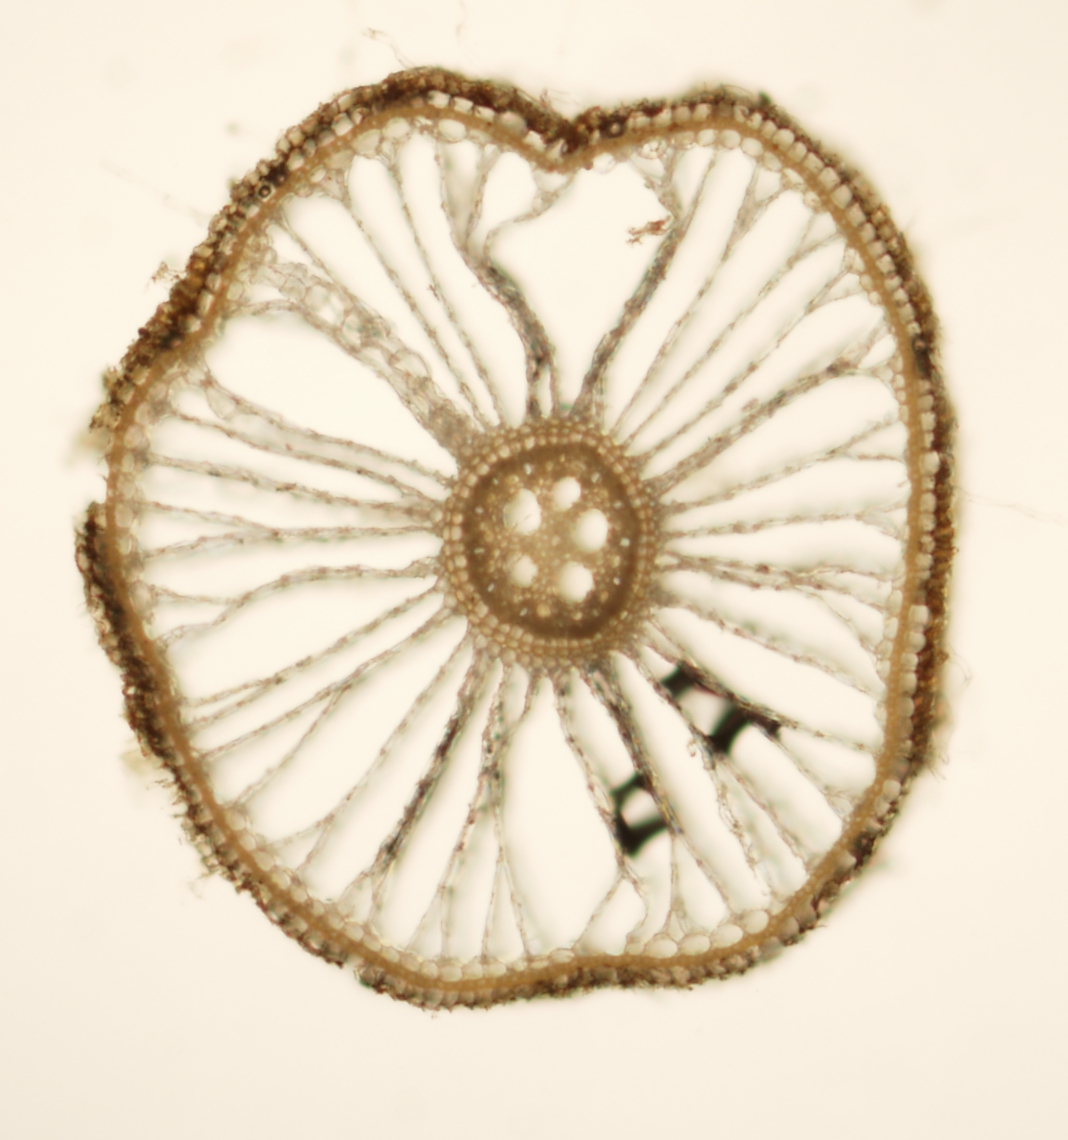lm: (502, 488, 541, 536), (552, 561, 595, 604), (573, 509, 608, 552), (504, 550, 538, 588), (551, 476, 581, 513)
